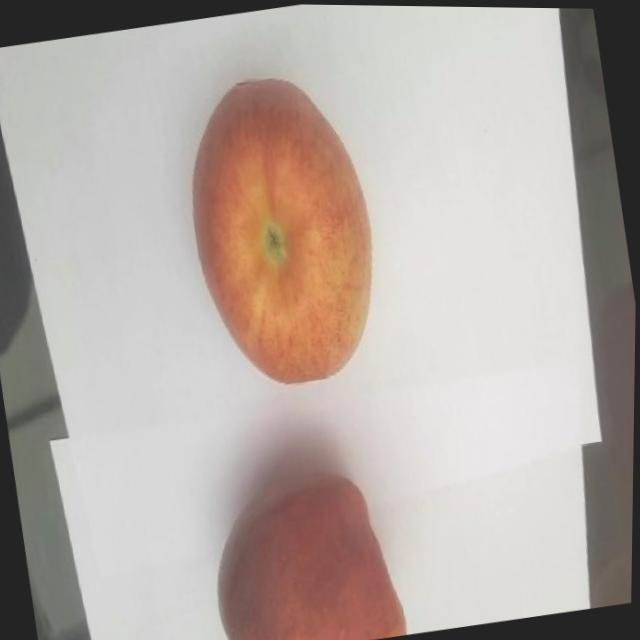Apple: (170, 61, 396, 396), (200, 456, 412, 640)
